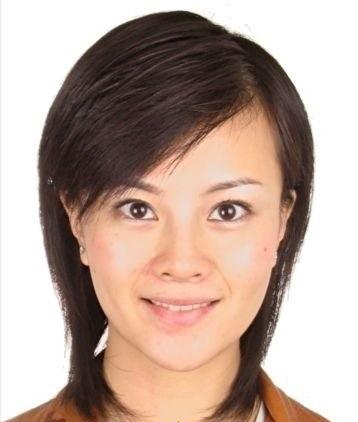unmask: (82, 158, 284, 351)
